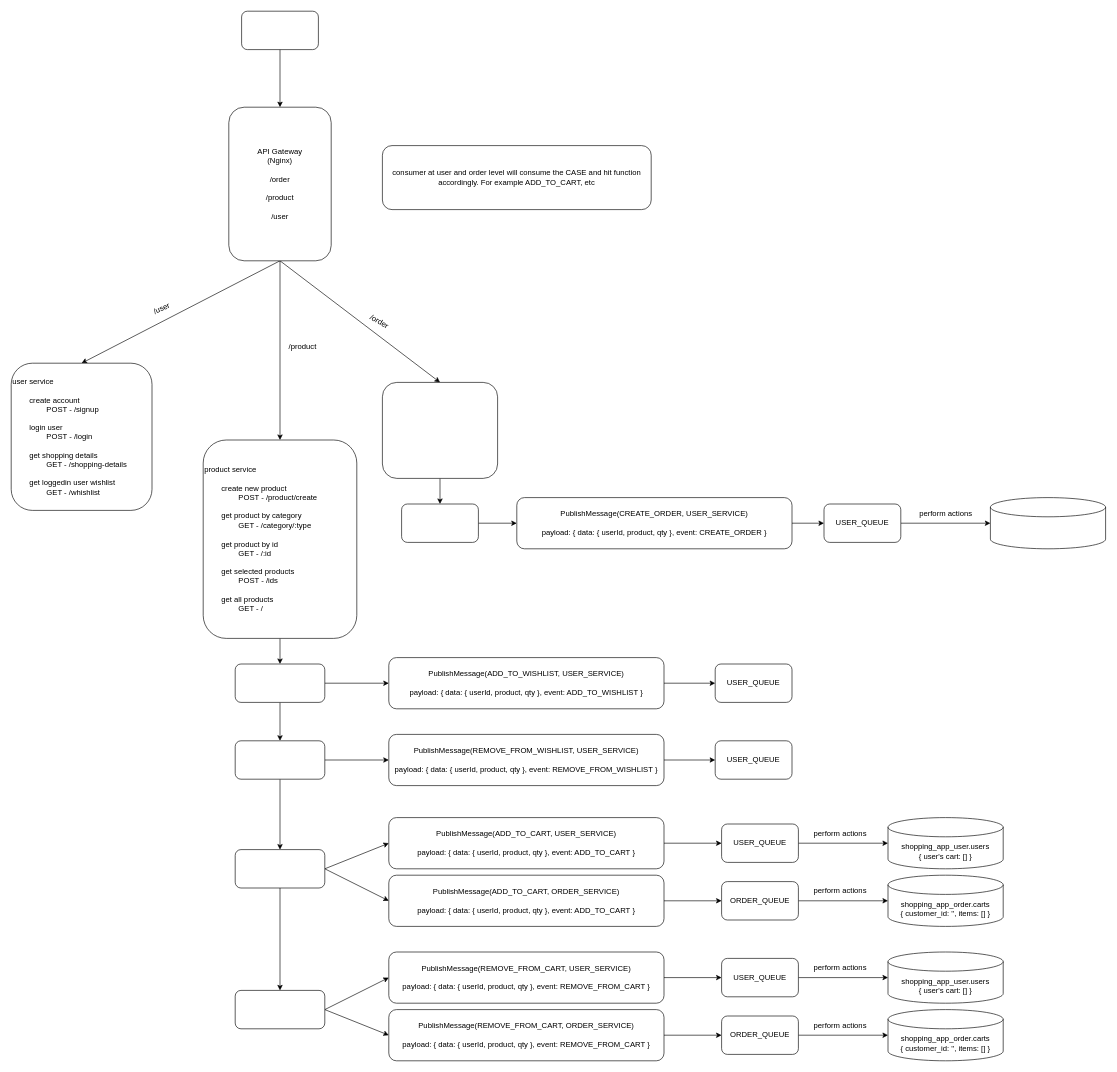
Image size: 1117x1072. Some labels were removed from this diagram. The shapes that lost their labels are listed below. From the top down, each one's centre as x and y in pixels, then its label:
At [279,30]: "user request".
At [440,430]: "order service get cart GET - /cart get orders GET - /orders".
At [439,522]: "place order POST - /order".
At [280,682]: "add to user's wishlist PUT - /wishlist".
At [280,759]: "delete user's wishlist DELETE - /wishlist/:id".
At [280,868]: "put in user's cart PUT - /cart".
At [280,1009]: "remove from user's cart DELETE - /cart/:id".
